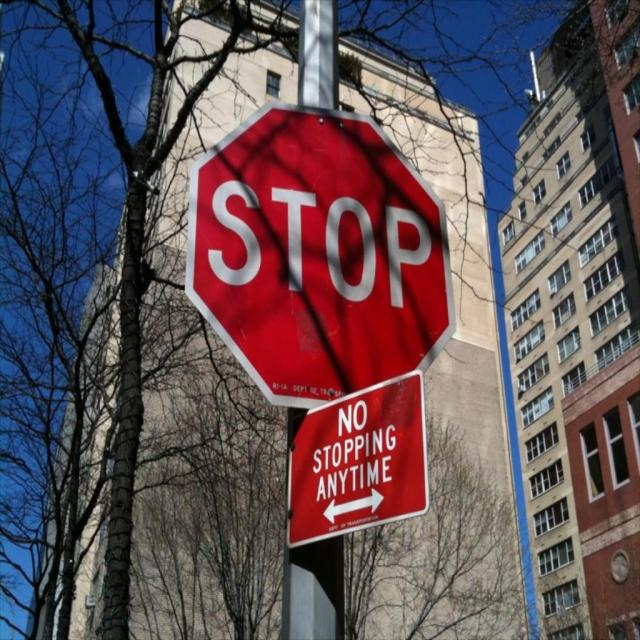Stop-sign: (182, 97, 458, 412), (184, 98, 457, 411)
